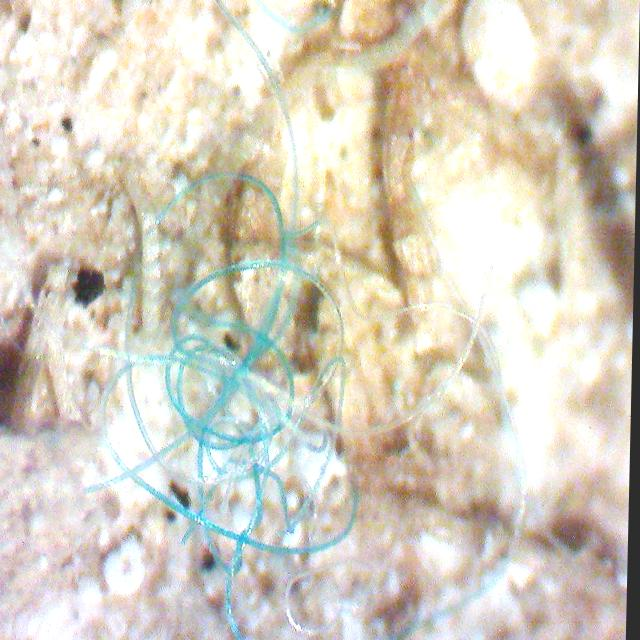microplastic: (74, 156, 393, 622)
